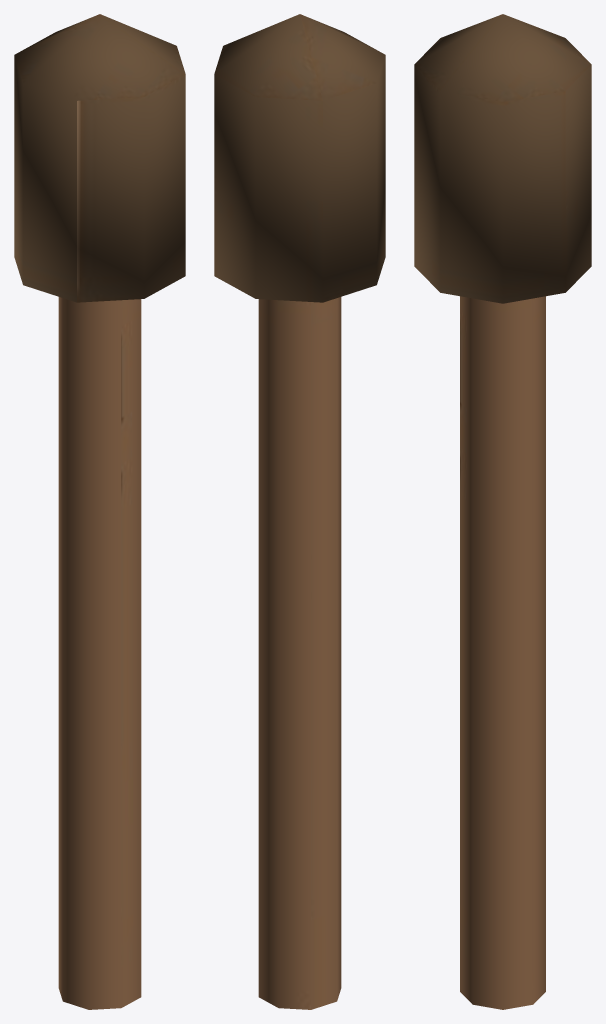
The model's file is Torch.fbx.
3 renders of one model, left to right at view 1: azimuth 30°, elevation 25°; view 2: azimuth 150°, elevation 25°; view 3: azimuth 270°, elevation 25°, orthographic.
Parts seen in each view (by area): view 1: Torch; view 2: Torch; view 3: Torch.
Part boxes in pixels (x1,y1,x2,y2): Torch: (14, 14, 185, 1009); Torch: (214, 14, 385, 1009); Torch: (414, 14, 591, 1009).
Size of the model in its own units: 0.3947 by 2.4 by 0.3947.
